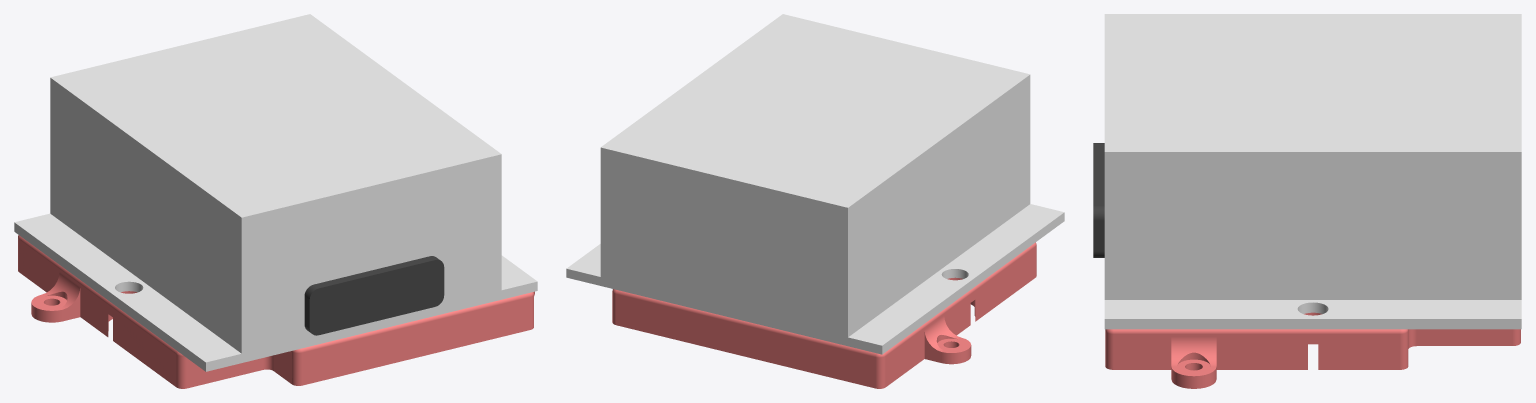
3 renders of one model, left to right at view 1: azimuth 30°, elevation 25°; view 2: azimuth 150°, elevation 25°; view 3: azimuth 270°, elevation 25°, orthographic. The views are drawn at different scales.
Parts seen in each view (by area): view 1: Mirbuckboost-1 - Part, actuator_mount_2_top-2 - Part, Mirbuckboost-1 - Part 2; view 2: Mirbuckboost-1 - Part, actuator_mount_2_top-2 - Part; view 3: Mirbuckboost-1 - Part, actuator_mount_2_top-2 - Part, Mirbuckboost-1 - Part 2.
Boxes of the visible parts, left/top/right/bottom form: Mirbuckboost-1 - Part: left=14, top=14, right=537, bottom=371; actuator_mount_2_top-2 - Part: left=18, top=235, right=534, bottom=388; Mirbuckboost-1 - Part 2: left=304, top=256, right=444, bottom=335; Mirbuckboost-1 - Part: left=566, top=14, right=1064, bottom=354; actuator_mount_2_top-2 - Part: left=612, top=242, right=1036, bottom=388; Mirbuckboost-1 - Part: left=1104, top=14, right=1521, bottom=329; actuator_mount_2_top-2 - Part: left=1105, top=312, right=1520, bottom=388; Mirbuckboost-1 - Part 2: left=1093, top=143, right=1104, bottom=257.
Bounding box in the file's own units: 0.0898 × 0.039 × 0.076.
